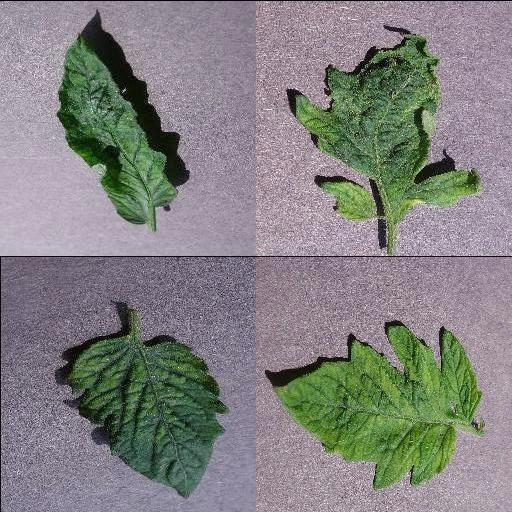Mosaic Virus: (292, 28, 484, 222), (270, 323, 482, 491), (63, 334, 229, 500), (55, 31, 179, 224)
